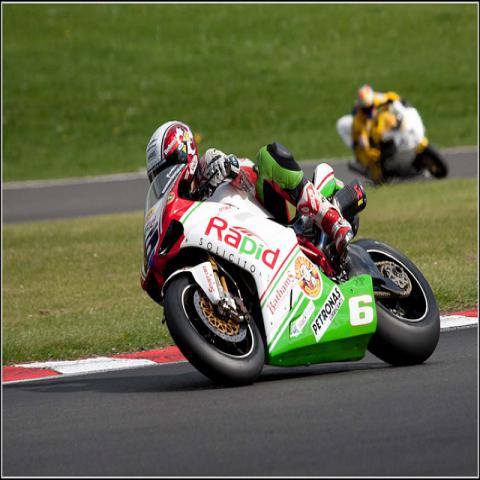motorcycle: (132, 158, 442, 388), (337, 102, 453, 182)
